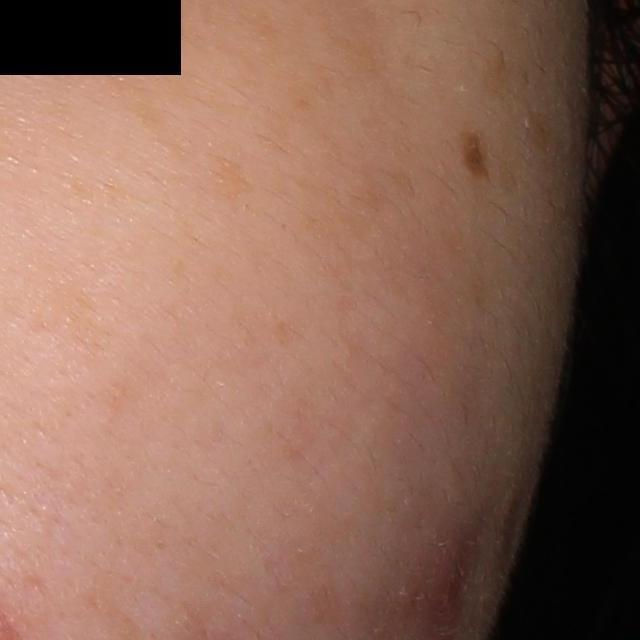melasma: (68, 50, 181, 144), (13, 272, 119, 371), (202, 150, 256, 200), (469, 46, 514, 103)
